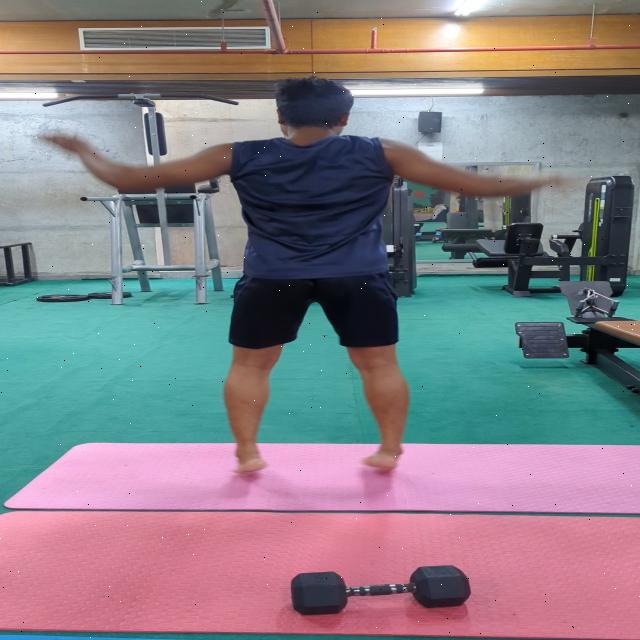Normal_JumpingJacks: (41, 60, 582, 488)
